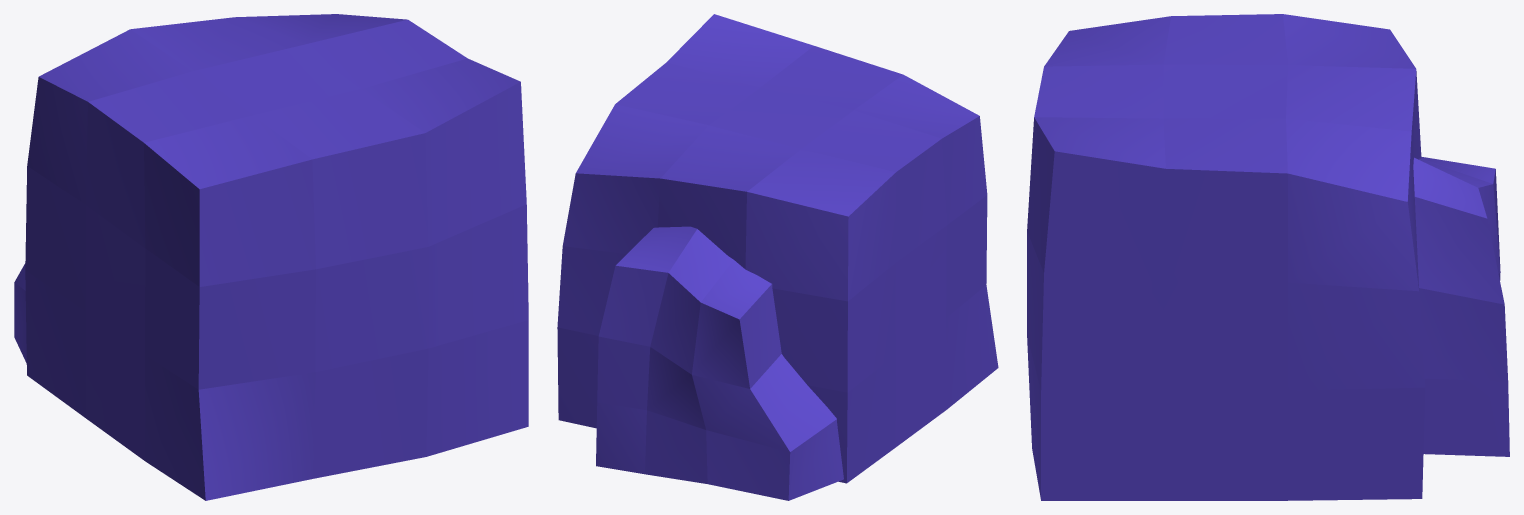
Rendered from Stone1.fbx.
The picture shows the model from 3 angles, left to right: view 1: azimuth 30°, elevation 25°; view 2: azimuth 150°, elevation 25°; view 3: azimuth 270°, elevation 25°; orthographic projection. The views are drawn at different scales.
Parts seen in each view (by area): view 1: Stone1; view 2: Stone1; view 3: Stone1.
Part boxes in pixels (x1,y1,x2,y2): Stone1: [14, 14, 528, 500]; Stone1: [557, 14, 998, 500]; Stone1: [1027, 14, 1509, 500].
Bounding box in the file's own units: 100 × 100 × 125.
